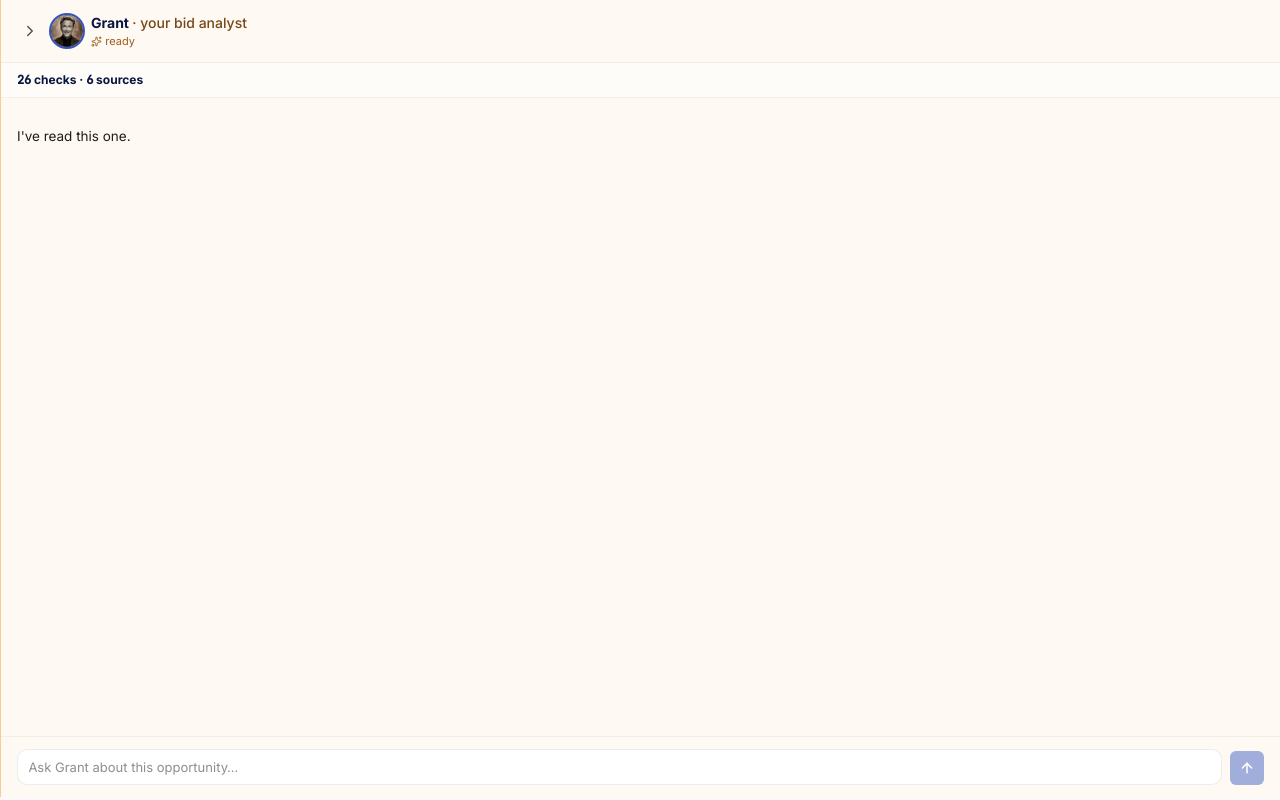
Test: GrantRail — Start over (UAT #46 item 3) › is a text button in the header, shown only once there is a thread, and clears it
This screenshot has width=1280, height=800.
Expected: the button "start over" is not shown
Type "hi" into the text box labelled "Ask Grant" at (620, 767), box [17,749,1222,785]
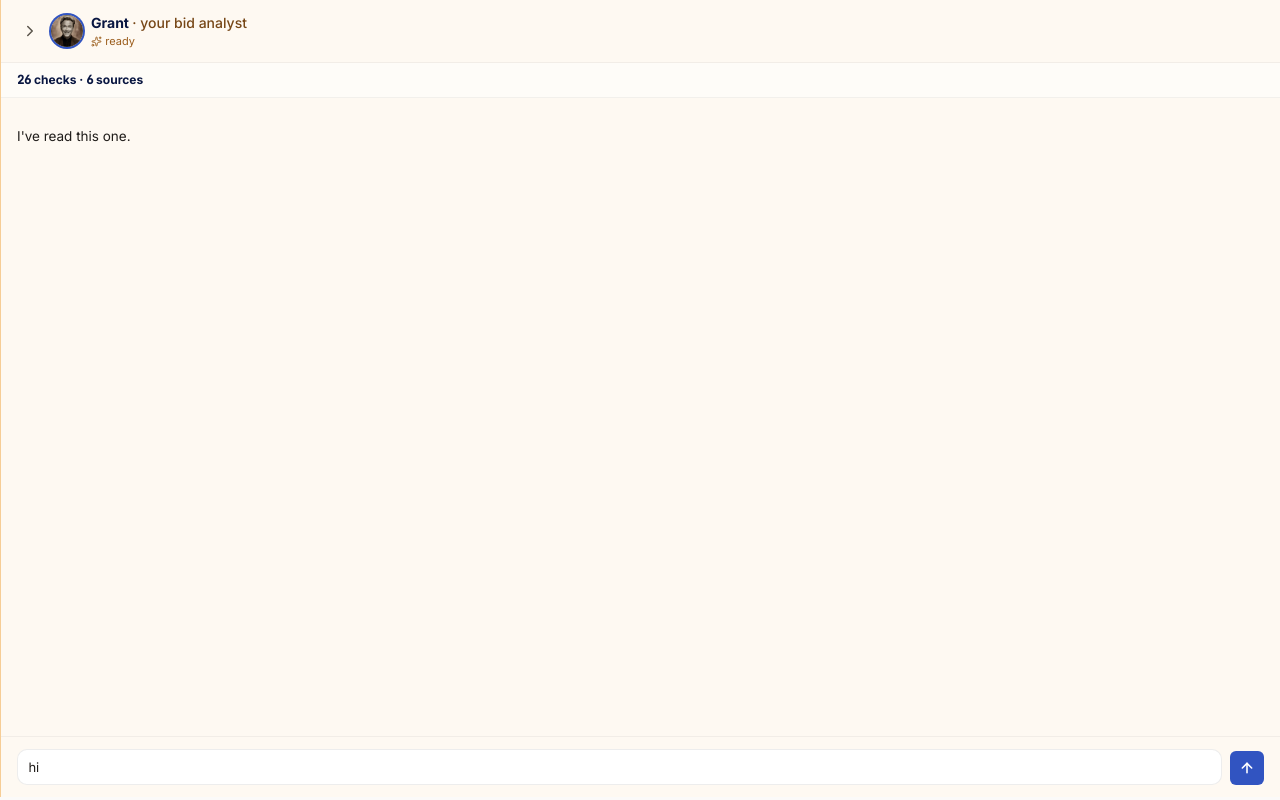
Click the button named "Send" at (1247, 768), box [1230,751,1264,785]
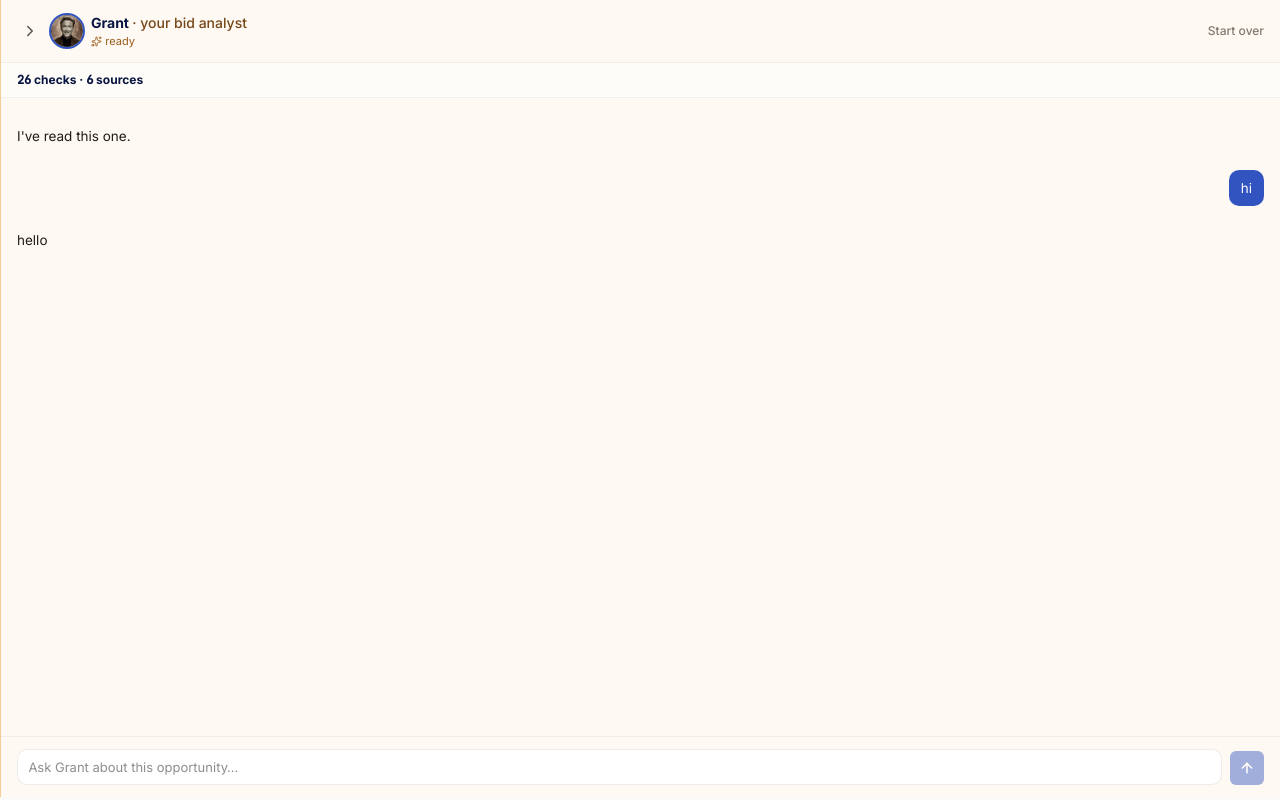
Expected: the text "hello" is shown, [17,232,48,248]
Expected: the button with aria-label "Start over — clear this conversation" reads "Start over"
Click the button with aria-label "Start over — clear this conversation" at (1236, 31), box [1208,22,1264,40]
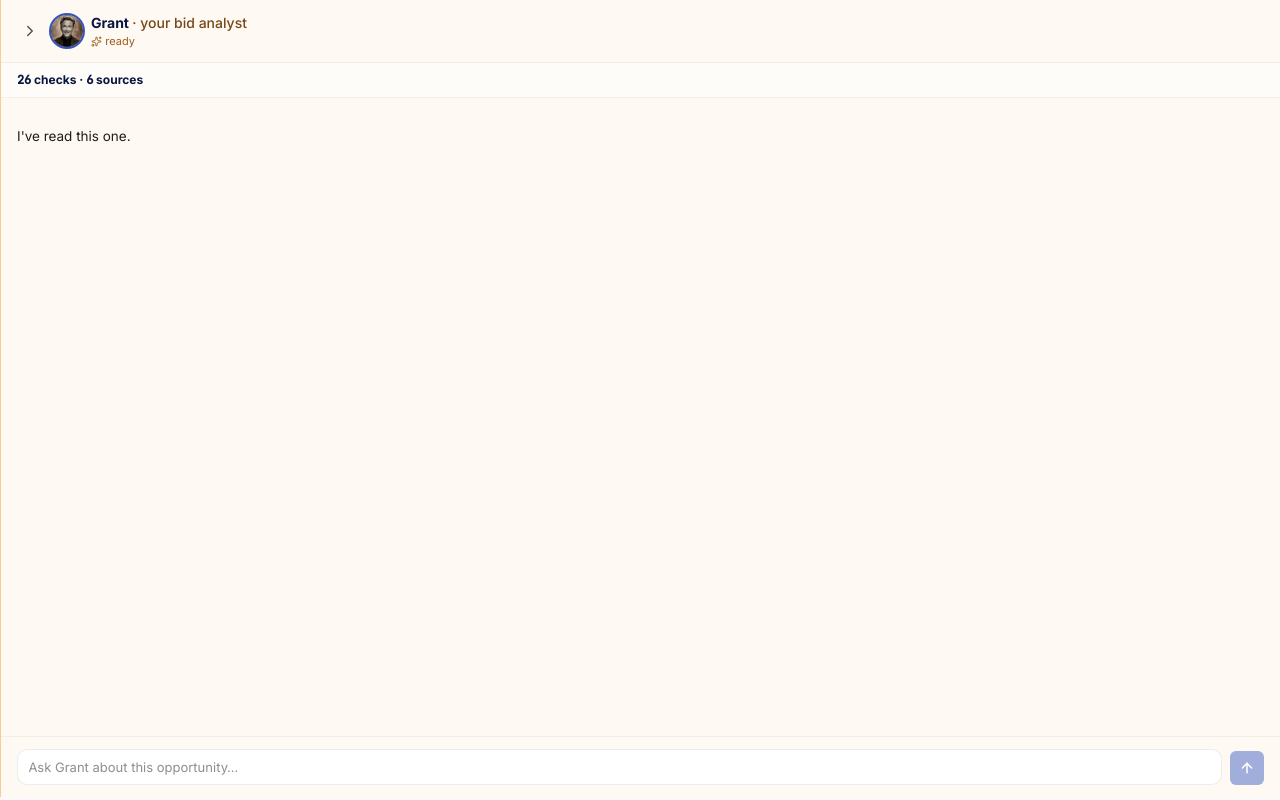
Expected: the button "Start over" is gone
